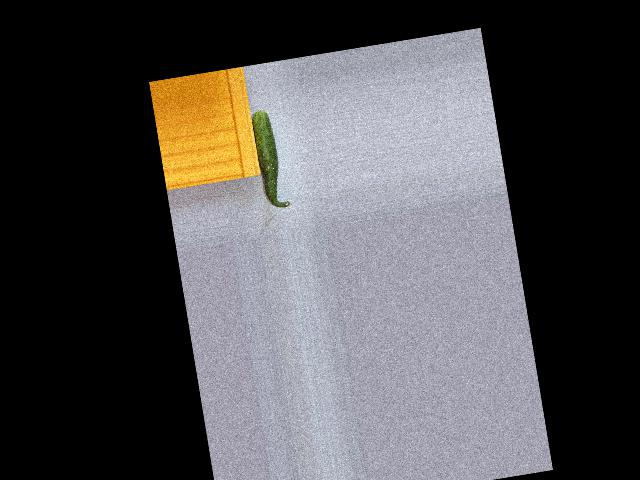cucumber: (250, 108, 290, 211)
